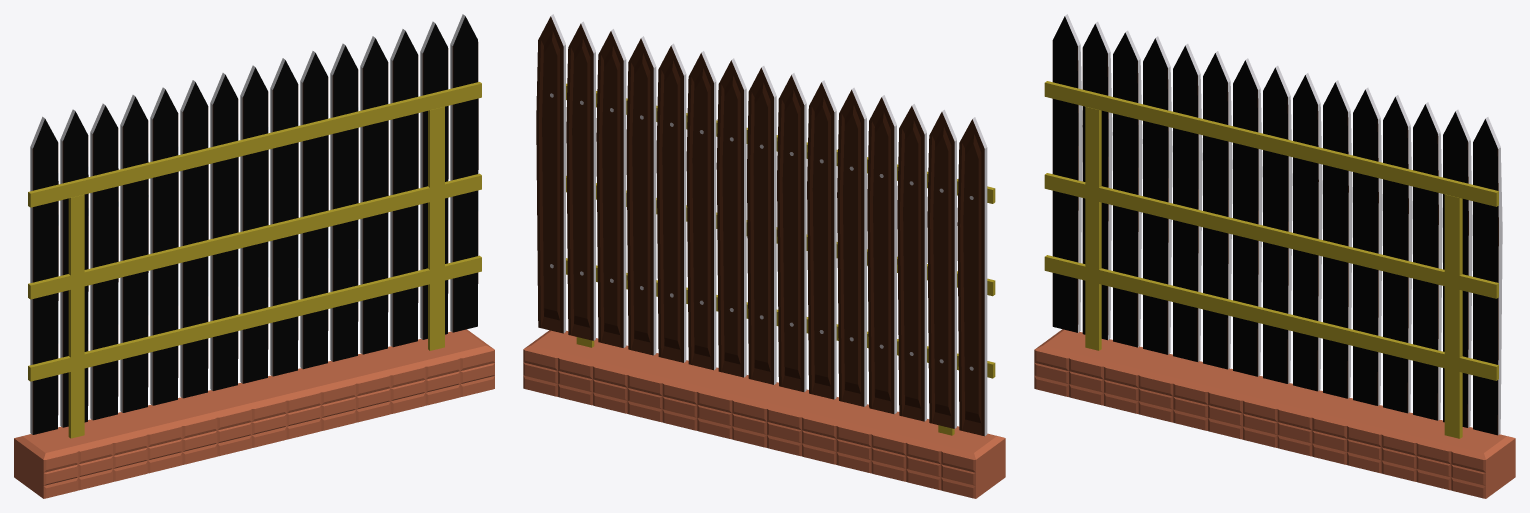
File: fence.fbx
The picture shows the model from 3 angles, left to right: view 1: azimuth 30°, elevation 25°; view 2: azimuth 150°, elevation 25°; view 3: azimuth 330°, elevation 25°; orthographic projection.
Visible parts, largest first — view 1: Забор, Бетонная основа; view 2: Забор, Бетонная основа; view 3: Забор, Бетонная основа.
Boxes of the visible parts, x1,y1,x2,y2 form: Забор: [28, 14, 481, 438]; Бетонная основа: [14, 329, 494, 498]; Забор: [536, 14, 995, 436]; Бетонная основа: [523, 330, 1005, 498]; Забор: [1044, 14, 1502, 438]; Бетонная основа: [1034, 329, 1515, 498].
Bounding box in the file's own units: 302 × 233 × 35.15.
